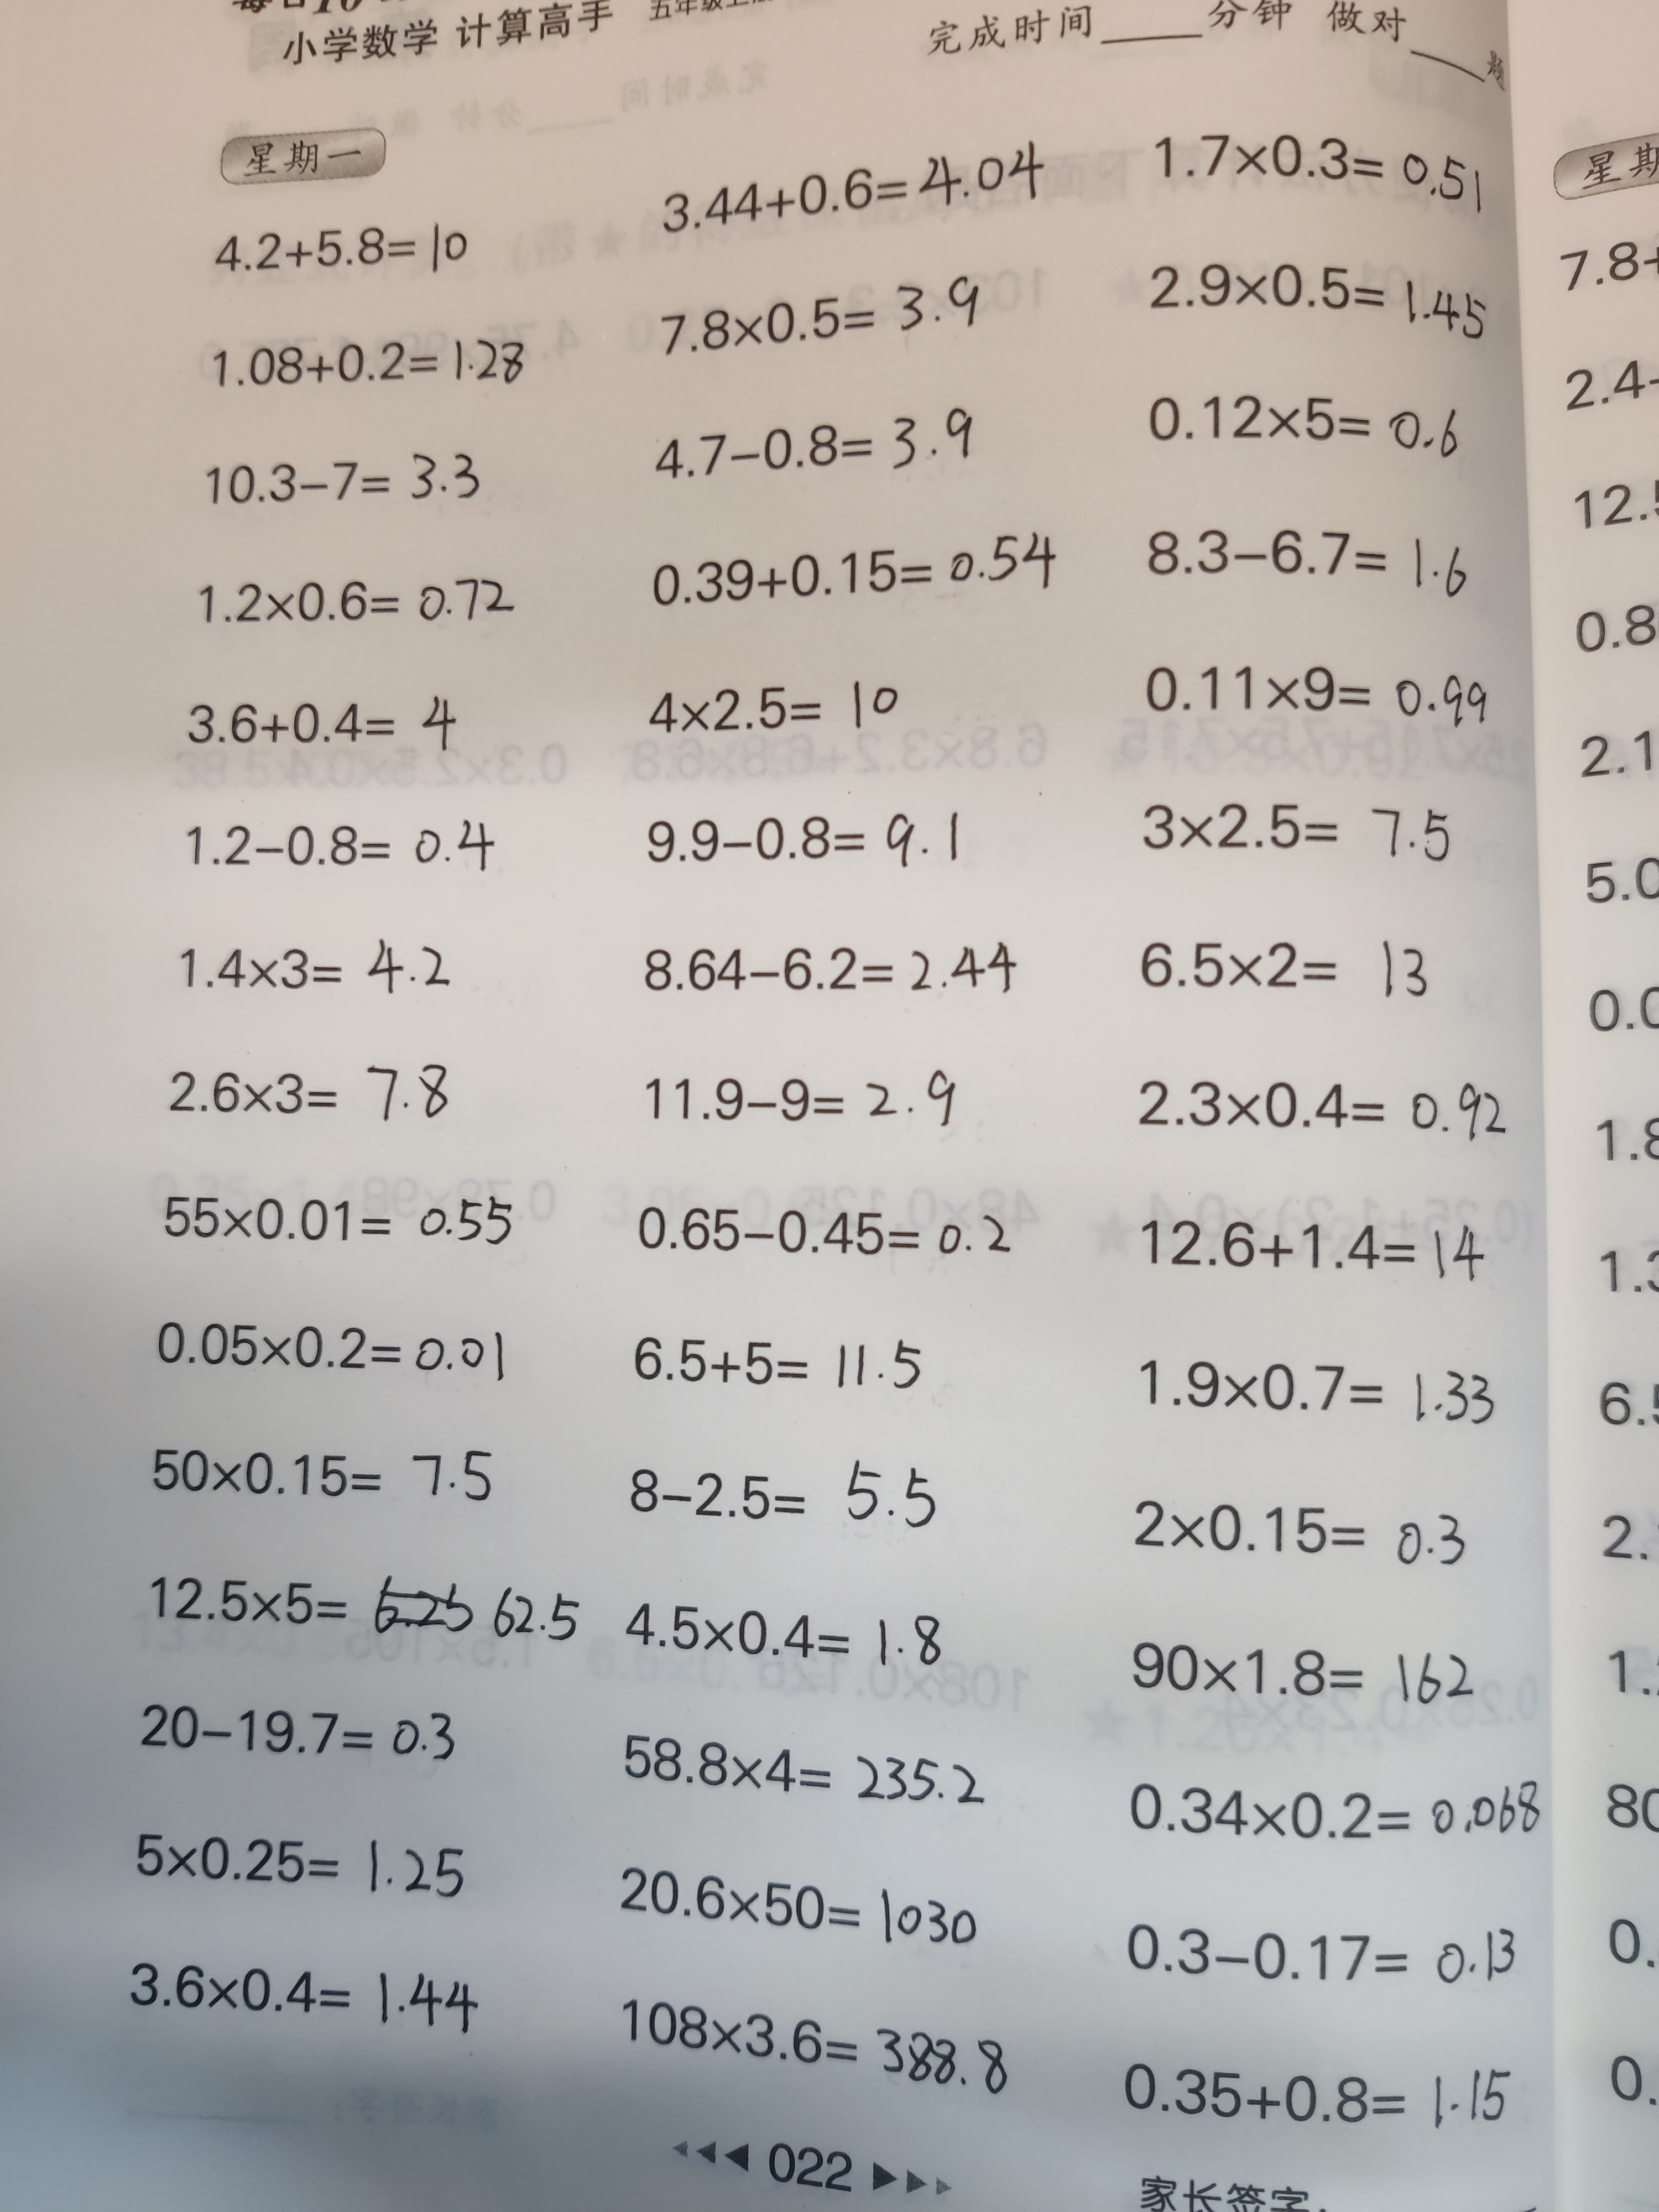equation: (132, 1550, 598, 1669), (1119, 2029, 1525, 2148), (615, 1709, 986, 1838), (610, 1991, 1019, 2106), (610, 1848, 983, 1970), (1117, 1750, 1544, 1857), (652, 138, 1073, 242), (1129, 1329, 1514, 1440), (1131, 251, 1499, 368), (622, 1176, 1019, 1278), (117, 1940, 493, 2048), (1107, 1909, 1530, 2005), (638, 526, 1072, 618), (1122, 906, 1459, 1024), (1122, 1200, 1490, 1308), (1145, 115, 1493, 228), (1124, 1479, 1485, 1587), (629, 923, 1037, 1015), (1117, 1061, 1514, 1155), (124, 1818, 486, 1921), (1124, 512, 1499, 611), (141, 1298, 511, 1397), (1110, 1625, 1497, 1719), (1129, 779, 1469, 885), (640, 266, 1002, 366), (148, 1170, 523, 1266), (610, 1442, 962, 1543), (136, 1433, 502, 1527), (1134, 643, 1497, 735), (131, 1686, 471, 1784), (617, 1581, 950, 1681), (633, 399, 1004, 488), (624, 1054, 971, 1146), (190, 317, 535, 409), (183, 556, 537, 643), (162, 803, 511, 887), (626, 803, 974, 887), (1134, 387, 1473, 472), (606, 1317, 931, 1406), (160, 921, 465, 1012), (636, 669, 939, 758), (173, 685, 467, 772), (150, 1054, 467, 1130), (193, 209, 498, 286), (186, 437, 498, 512)
